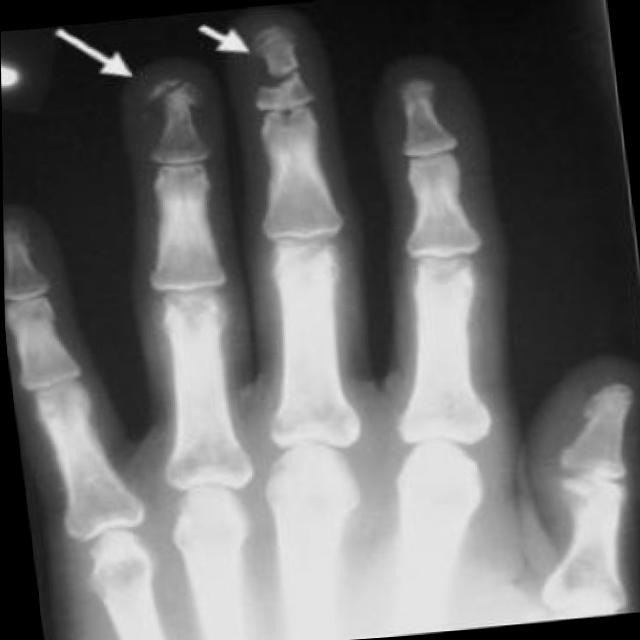Comminuted: (137, 65, 214, 132)
Segmental: (235, 14, 332, 150)
